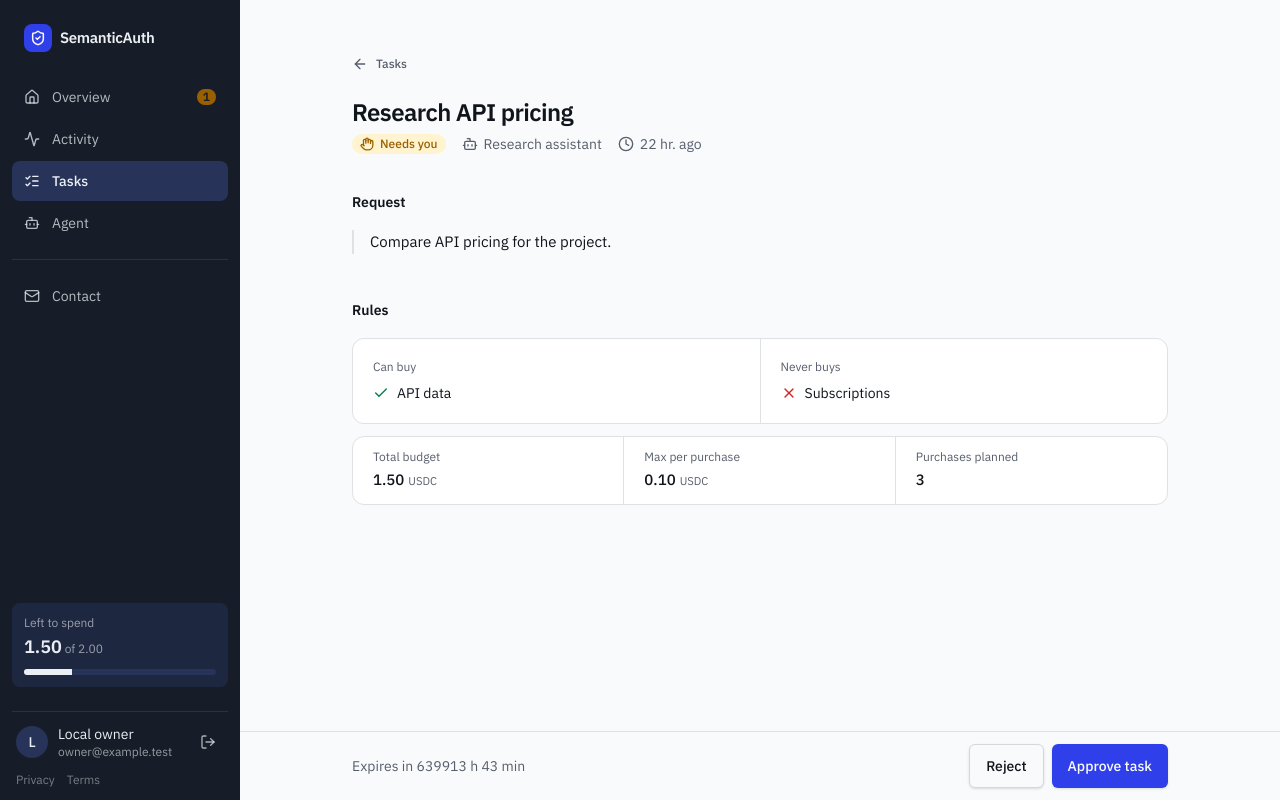
Test: decisions › surfaces a refused approval instead of reporting success
Click the button "Approve task" at (1110, 766), box x1=1052 y1=744 x2=1168 y2=788
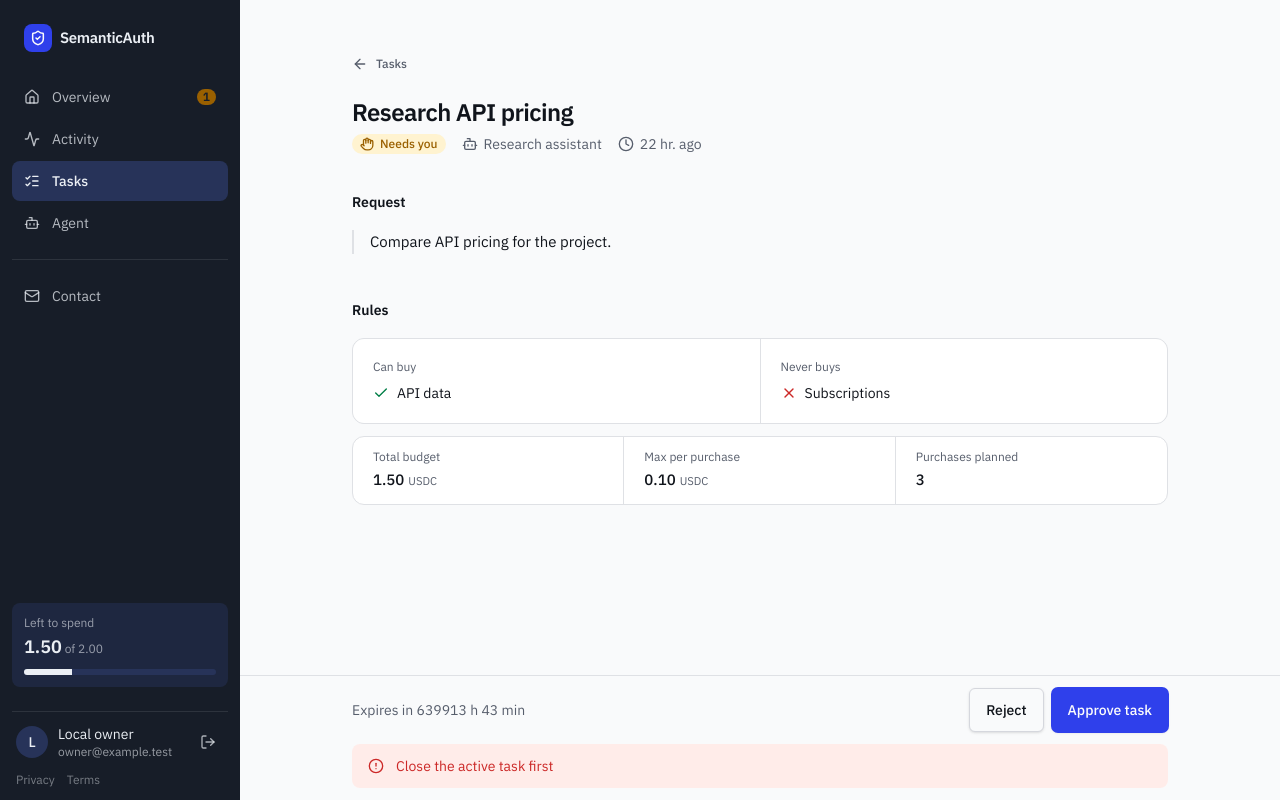
Expected: the button "Approve task" is shown, x1=1052 y1=688 x2=1168 y2=732
Expected: the text "Close the active task first" is shown, x1=396 y1=757 x2=553 y2=775
